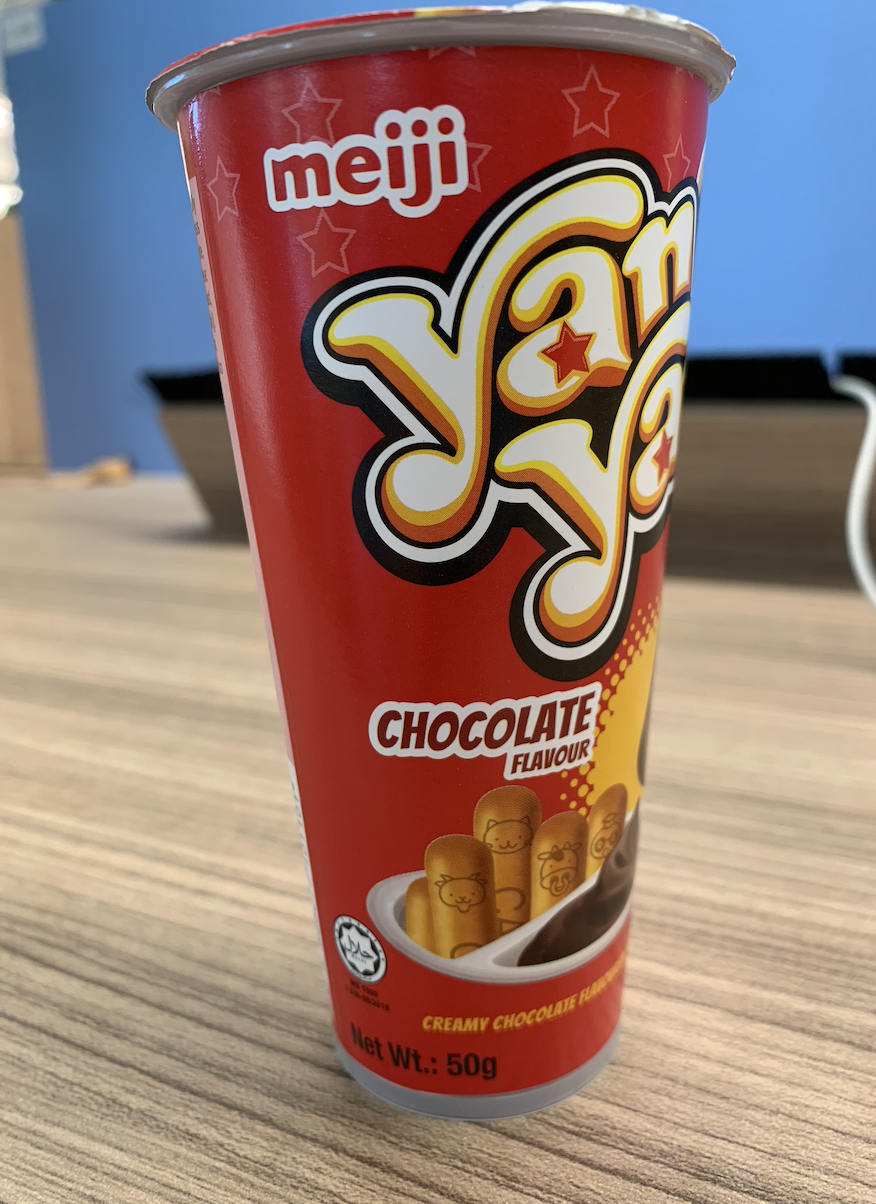cookies_1g-99g: (276, 67, 647, 1094)
